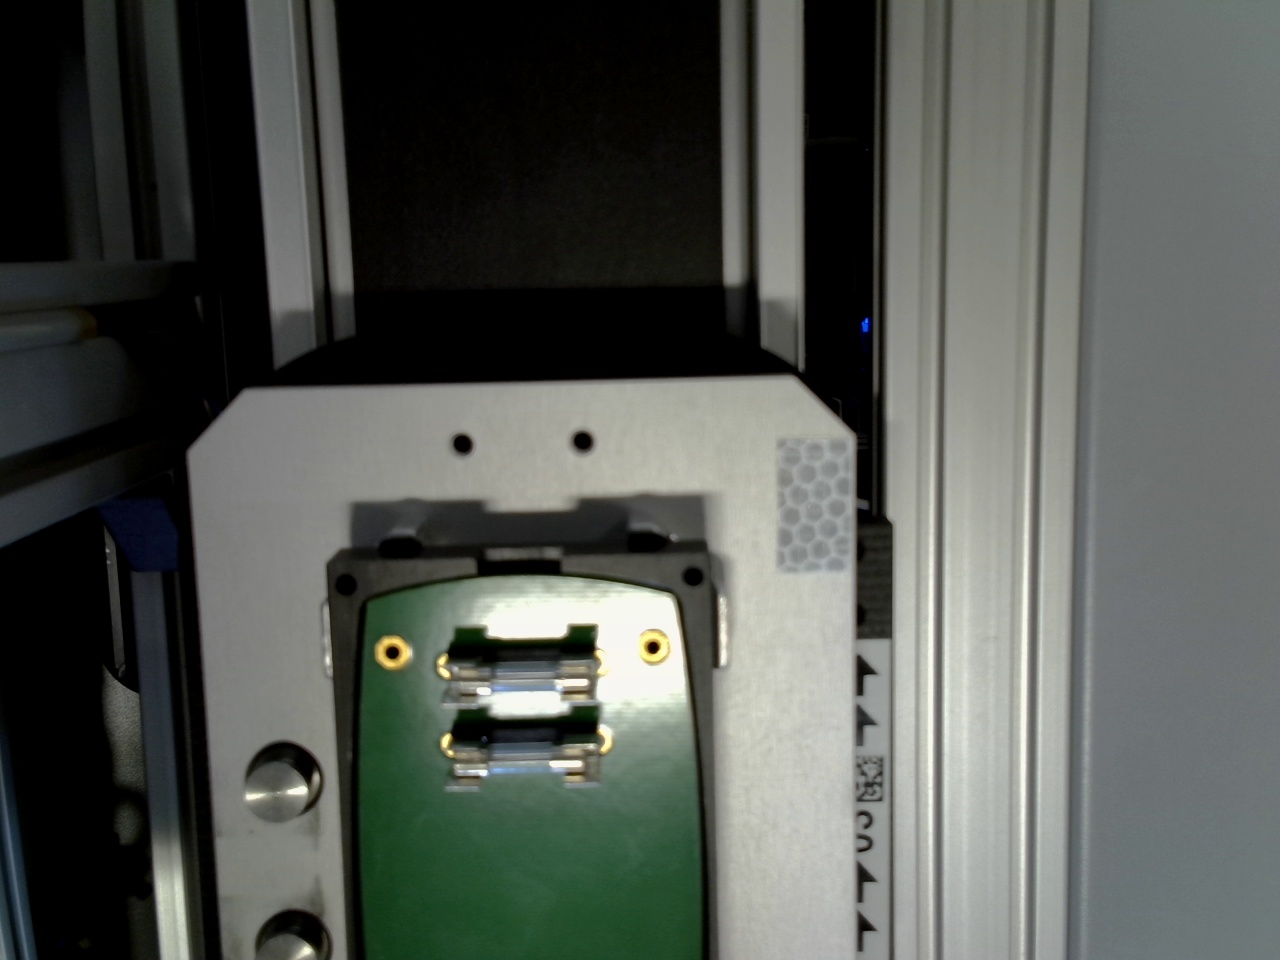Onefuse: (446, 662, 593, 702), (452, 738, 589, 781)
